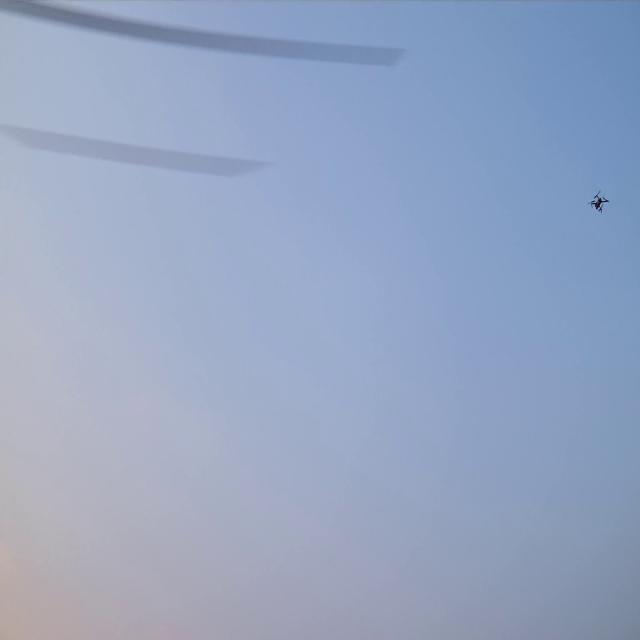UAV: (591, 194, 608, 212)
